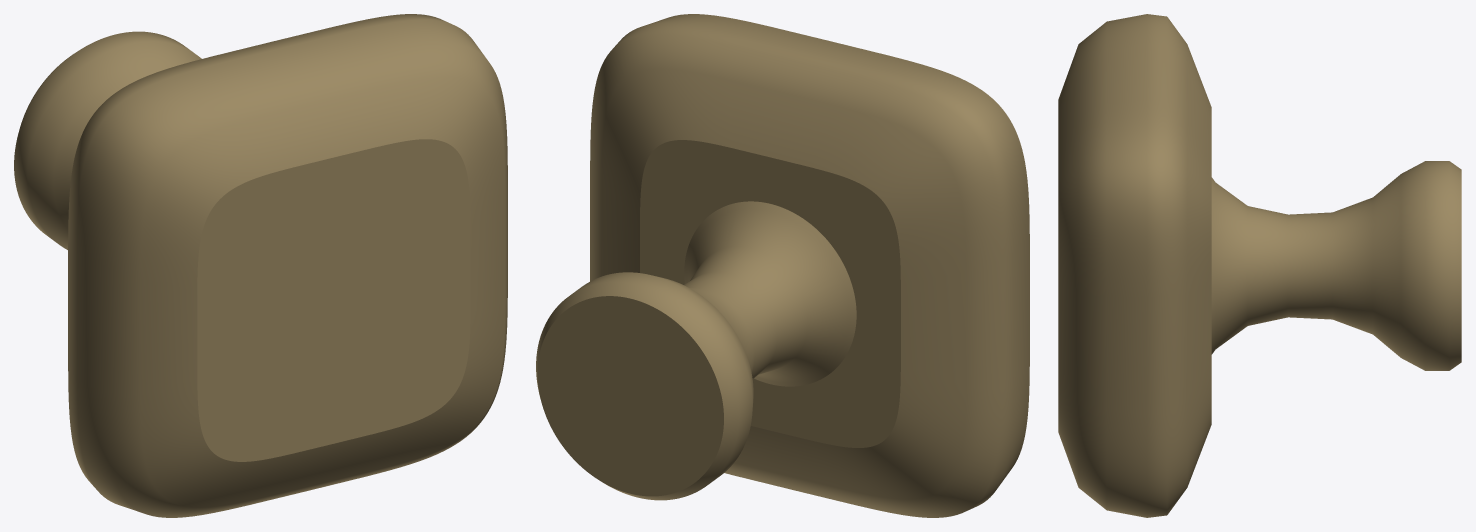
The model's file is eurofit-k-62231rg-v3.glb.
3 views of the same model, side by side, from view 1: azimuth 30°, elevation 25°; view 2: azimuth 150°, elevation 25°; view 3: azimuth 270°, elevation 25° (orthographic). The views are drawn at different scales.
Parts seen in each view (by area): view 1: K62231 rounded square cushion, K62231 bell foot and round neck; view 2: K62231 rounded square cushion, K62231 bell foot and round neck; view 3: K62231 rounded square cushion, K62231 bell foot and round neck.
Boxes of the visible parts, x1,y1,x2,y2 form: K62231 rounded square cushion: (68, 14, 507, 517); K62231 bell foot and round neck: (14, 31, 201, 249); K62231 rounded square cushion: (590, 14, 1029, 517); K62231 bell foot and round neck: (536, 201, 856, 500); K62231 rounded square cushion: (1058, 14, 1211, 517); K62231 bell foot and round neck: (1211, 161, 1461, 370).
Bounding box in the file's own units: 0.034 × 0.034 × 0.032.
